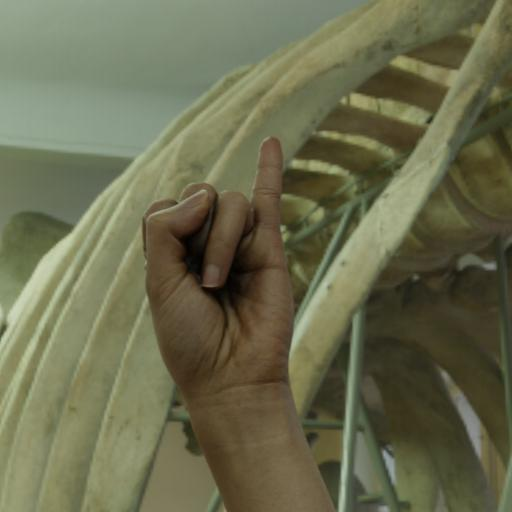I: (135, 128, 313, 408)
